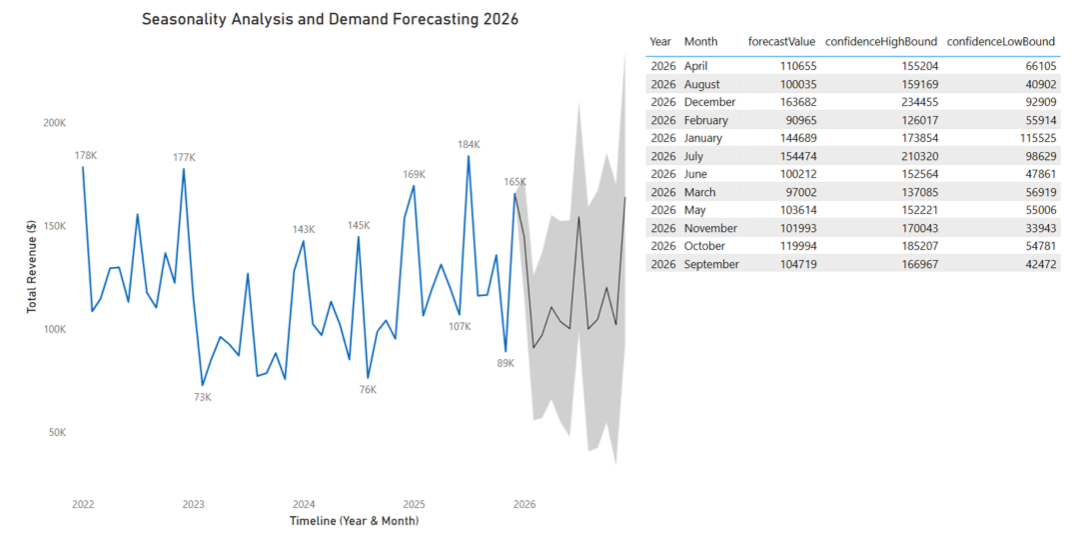

What the dashboard file says about the page in this screenshot:
{"tool":"powerbi","page":{"name":"Seosanality Analysis and Demand Forecasting","canvas":[1280,720],"ordinal":3},"visuals":[{"type":"lineChart","title":"Seasonality Analysis and Demand Forecasting 2026","fields":{"Y":["Sum(Dataset.Revenue)"],"Category":["Dataset.Date.Variation.Date Hierarchy.Year","Dataset.Date.Variation.Date Hierarchy.Month"]},"box":[23.8,33.3,724.9,610.7],"z":0},{"type":"tableEx","fields":{"Values":["Forecasting 2026.Year","Forecasting 2026.Month","Forecasting 2026.forecastValue","Forecasting 2026.confidenceHighBound","Forecasting 2026.confidenceLowBound"]},"box":[748.6,55.5,502.8,322],"z":1000}]}

Visuals, with their boxes on the page's 1280x720 design canvas (x1, y1, x2, y2). These are canvas units, not pixel positions in the 1080x535 screenshot, which may show the page scaled, cropped or inside an application window:
"Seasonality Analysis and Demand Forecasting 2026" lineChart: region(24, 33, 749, 644)
tableEx - Forecasting 2026.Year x Forecasting 2026.Month: region(749, 56, 1251, 378)
